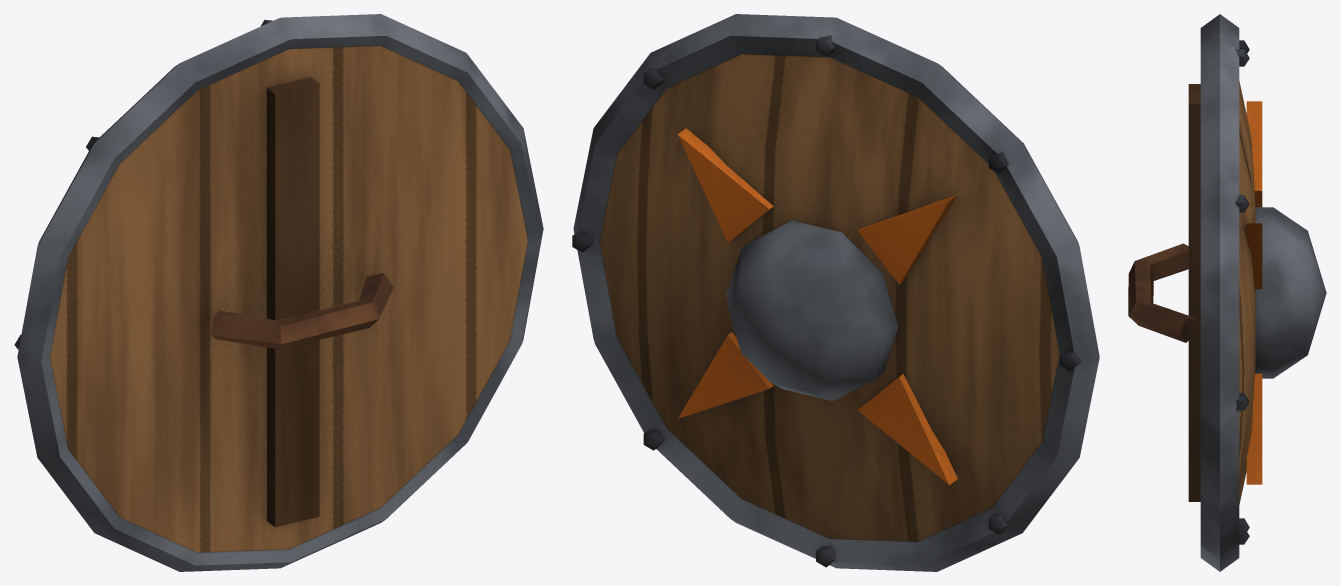
Rendered from escudo_hierro.fbx.
3 views of the same model, side by side, from view 1: azimuth 30°, elevation 25°; view 2: azimuth 150°, elevation 25°; view 3: azimuth 270°, elevation 25° (orthographic). The views are drawn at different scales.
Visible parts, largest first — view 1: escudo_hierro; view 2: escudo_hierro; view 3: escudo_hierro.
Boxes of the visible parts, x1=… form: escudo_hierro: x1=14, y1=14, x2=543, y2=571; escudo_hierro: x1=572, y1=14, x2=1099, y2=571; escudo_hierro: x1=1128, y1=14, x2=1326, y2=571.
Bounding box in the file's own units: 3.56 × 3.56 × 1.26.
1 material, 1 textured.
